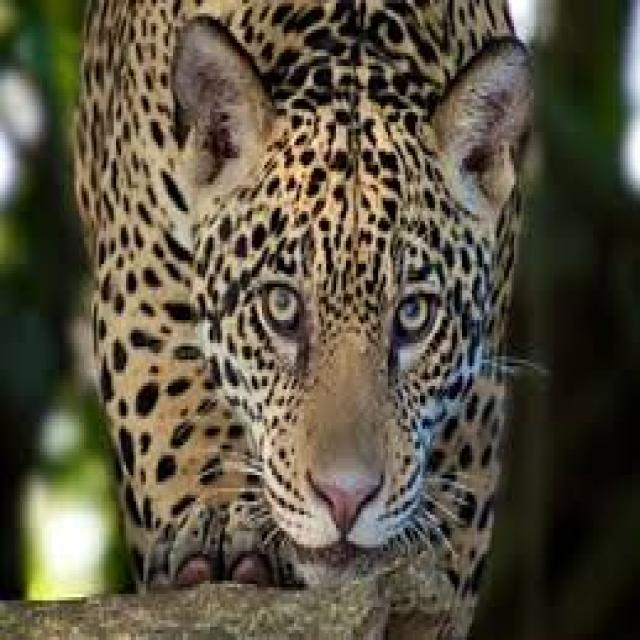Jaguar: (69, 0, 539, 640)
